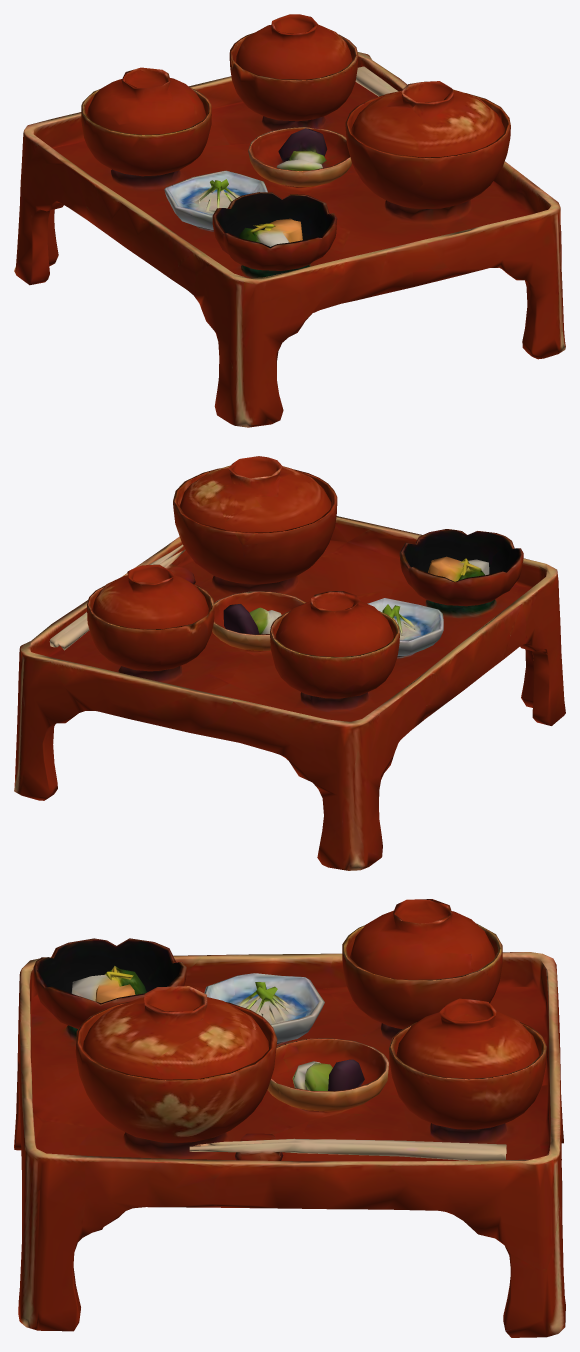
The model's file is ozen.glb.
The picture shows the model from 3 angles, top to bottom: view 1: azimuth 30°, elevation 25°; view 2: azimuth 150°, elevation 25°; view 3: azimuth 270°, elevation 25°; orthographic projection. The views are drawn at different scales.
Visible parts, largest first — view 1: tripo_node_9940c46d-f999-46d7-ba04-b3b791578077; view 2: tripo_node_9940c46d-f999-46d7-ba04-b3b791578077; view 3: tripo_node_9940c46d-f999-46d7-ba04-b3b791578077.
Part boxes in pixels (x1,y1,x2,y2): tripo_node_9940c46d-f999-46d7-ba04-b3b791578077: [14, 14, 565, 427]; tripo_node_9940c46d-f999-46d7-ba04-b3b791578077: [14, 456, 565, 870]; tripo_node_9940c46d-f999-46d7-ba04-b3b791578077: [14, 899, 565, 1337].
Size of the model in its own units: 0.9027 by 0.5704 by 1.
1 material, 1 textured.
